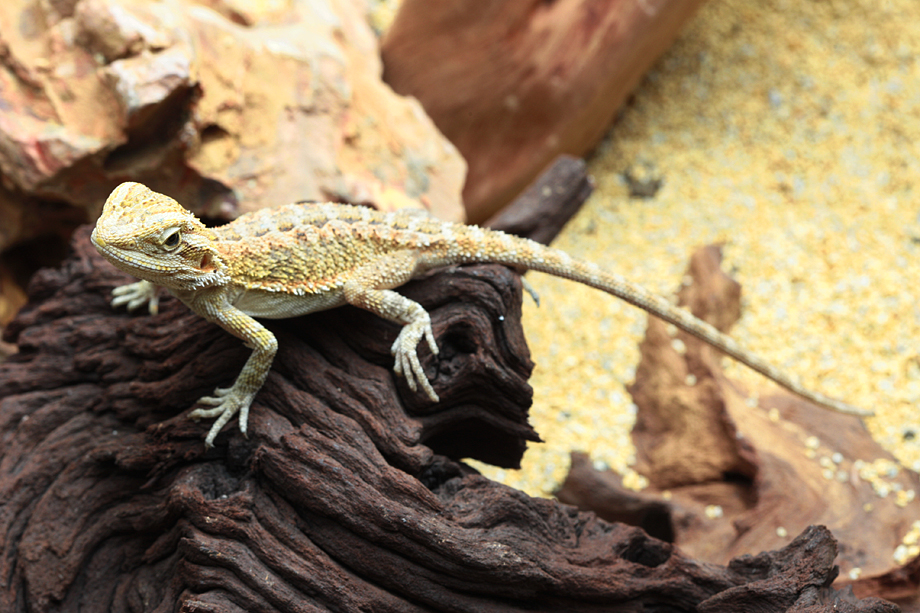bearded: (86, 173, 879, 477)
